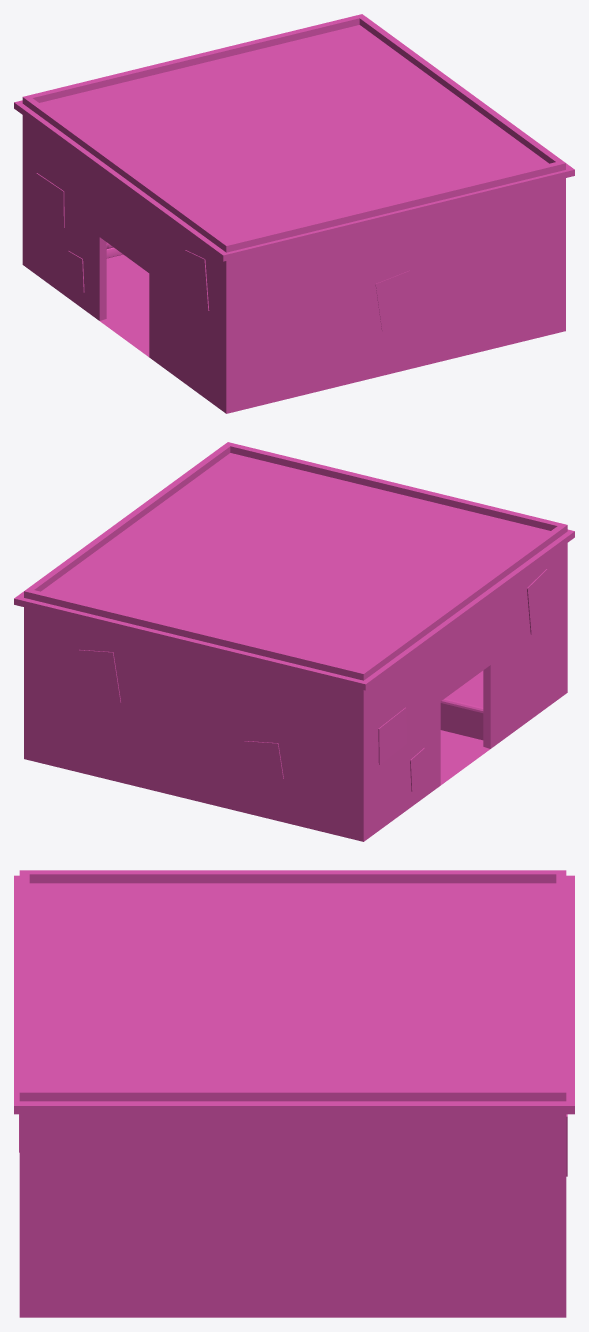
The model's file is casalLow.fbx.
The picture shows the model from 3 angles, top to bottom: view 1: azimuth 30°, elevation 25°; view 2: azimuth 150°, elevation 25°; view 3: azimuth 270°, elevation 25°; orthographic projection. The views are drawn at different scales.
Parts seen in each view (by area): view 1: Cube.091, Cube.092, Cube.033, Cube.095, Cube.032, Cube.096; view 2: Cube.091, Cube.092, Cube.029, Cube.034, Cube.035, Cube.095, Cube.032, Cube.096; view 3: Cube.091, Cube.092.
Part boxes in pixels (x1,y1,x2,y2): Cube.091: (22,14,565,413); Cube.092: (14,25,574,261); Cube.033: (375,270,416,331); Cube.095: (36,173,64,227); Cube.032: (185,250,209,310); Cube.096: (68,251,84,292); Cube.091: (24,442,567,841); Cube.092: (14,453,574,690); Cube.029: (440,670,483,740); Cube.034: (79,649,120,702); Cube.035: (244,741,283,778); Cube.095: (378,707,406,764); Cube.032: (527,569,551,634); Cube.096: (410,748,426,791); Cube.091: (19,870,566,1317); Cube.092: (14,875,574,1114).
Bounding box in the file's own units: 2192 × 999 × 2258.
